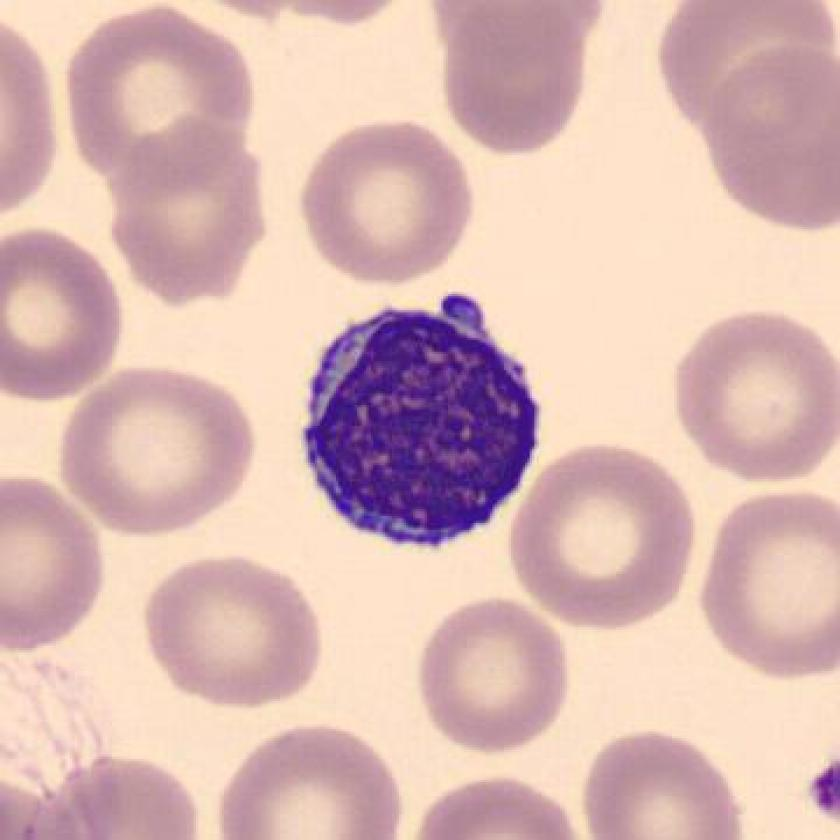lymphocyte: (286, 286, 552, 561)
